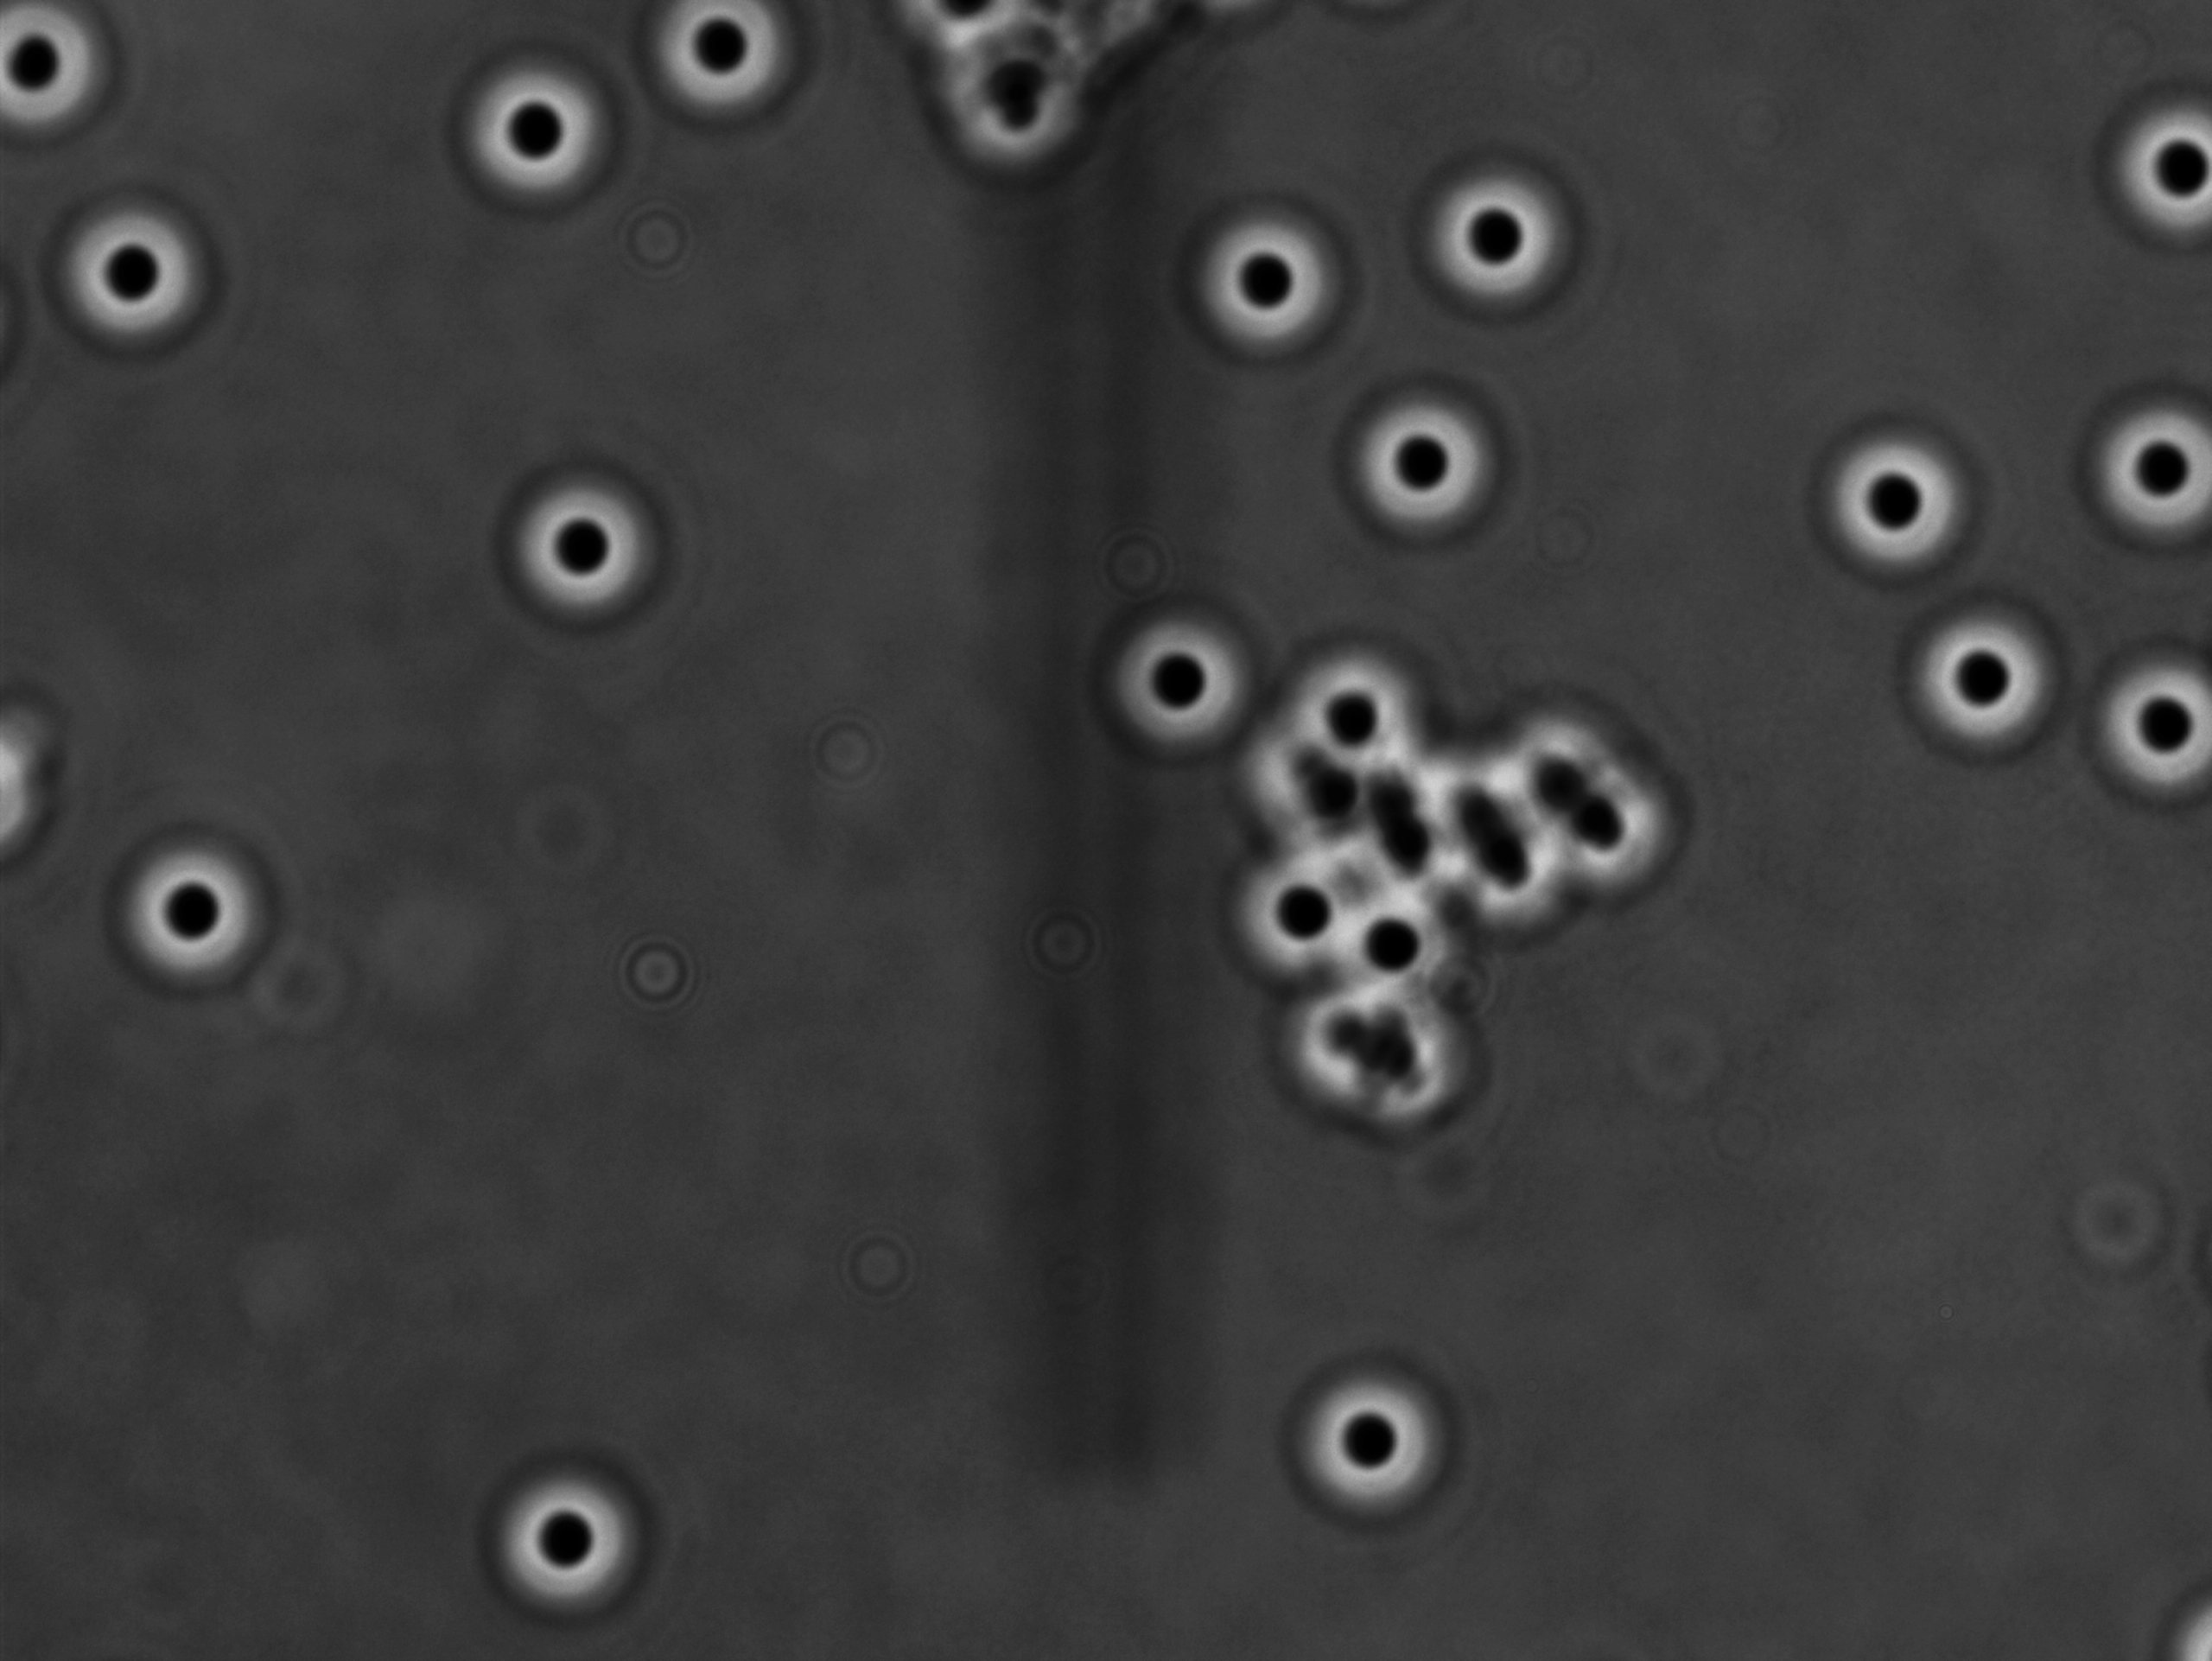depth:-60: (1266, 1354, 1460, 1546), (1387, 148, 1575, 340), (1893, 579, 2076, 769), (89, 824, 286, 998), (1807, 405, 1990, 588), (1179, 202, 1359, 379), (45, 183, 216, 366), (1329, 379, 1514, 541), (478, 1462, 654, 1631), (1090, 584, 1260, 755), (488, 473, 659, 640), (2062, 628, 2212, 799), (455, 58, 621, 211), (2090, 77, 2212, 270), (2079, 387, 2212, 551)
